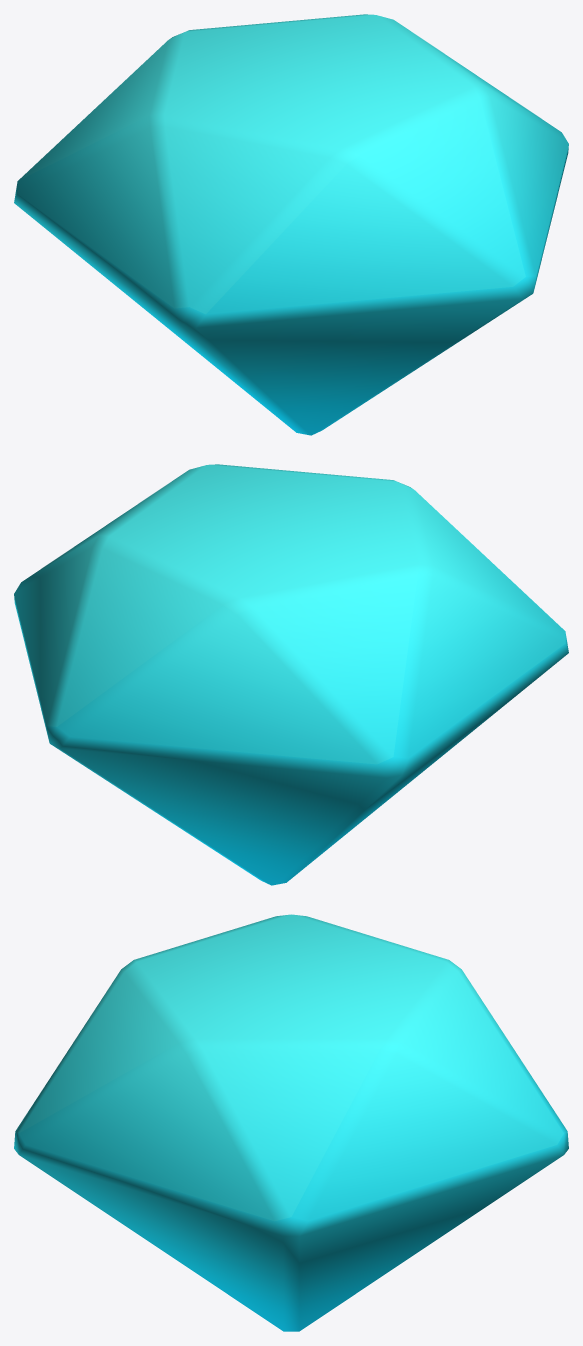
The model's file is Collectible_Diamond_01.glb.
The picture shows the model from 3 angles, top to bottom: view 1: azimuth 30°, elevation 25°; view 2: azimuth 150°, elevation 25°; view 3: azimuth 270°, elevation 25°; orthographic projection. The views are drawn at different scales.
Visible parts, largest first — view 1: Collectible_Diamond_01; view 2: Collectible_Diamond_01; view 3: Collectible_Diamond_01.
Boxes of the visible parts, x1=… form: Collectible_Diamond_01: x1=14, y1=14, x2=568, y2=435; Collectible_Diamond_01: x1=14, y1=464, x2=568, y2=885; Collectible_Diamond_01: x1=14, y1=914, x2=568, y2=1331.
Bounding box in the file's own units: 1.05 × 0.7528 × 1.1.
1 material, 1 textured.
